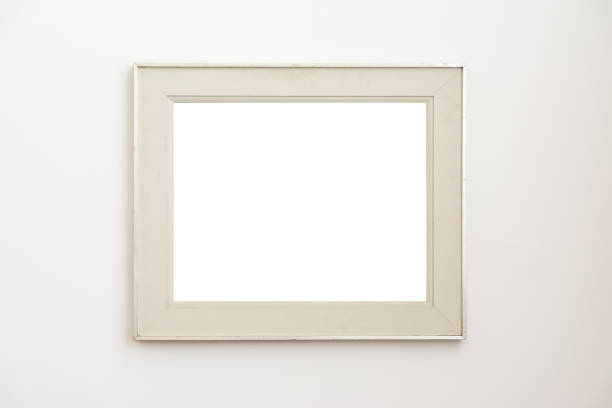dikdortgen: (134, 62, 466, 344)
